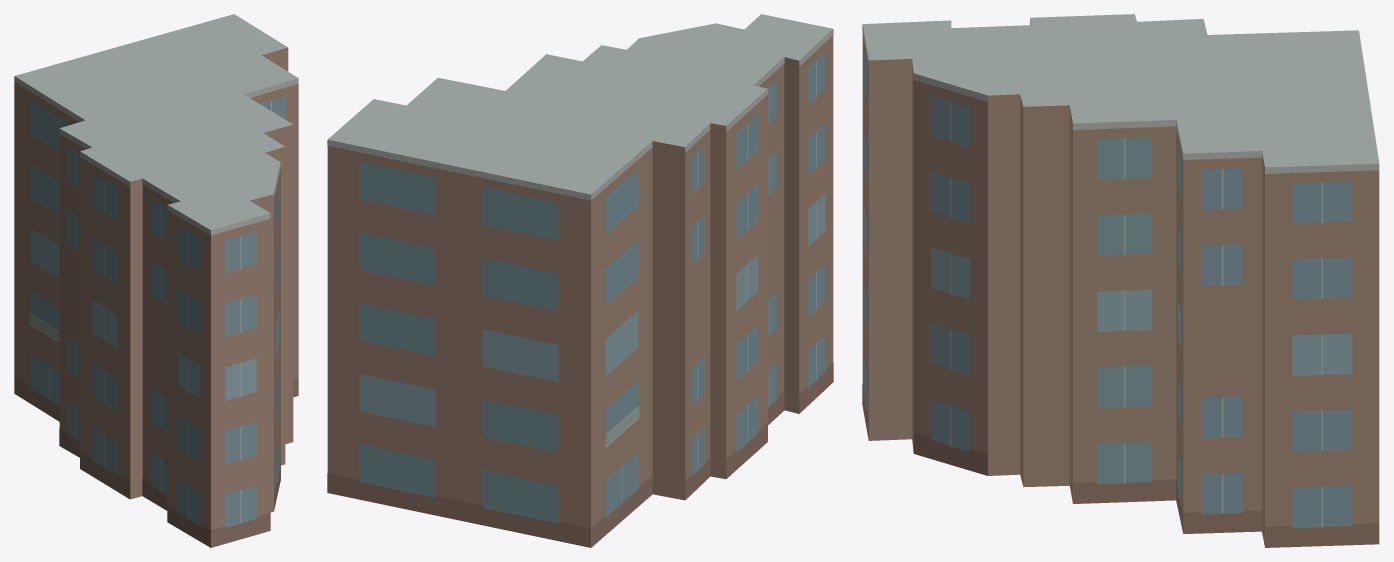
File: survey-upis-32639309.glb
3 views of the same model, side by side, from view 1: azimuth 30°, elevation 25°; view 2: azimuth 150°, elevation 25°; view 3: azimuth 270°, elevation 25° (orthographic). The views are drawn at different scales.
Parts seen in each view (by area): view 1: survey-upis-32639309.tmp; view 2: survey-upis-32639309.tmp; view 3: survey-upis-32639309.tmp.
Boxes of the visible parts, x1,y1,x2,y2 form: survey-upis-32639309.tmp: (14,14,298,547); survey-upis-32639309.tmp: (327,14,833,547); survey-upis-32639309.tmp: (862,14,1379,547).
Bounding box in the file's own units: 12.38 × 14.3 × 17.62.
